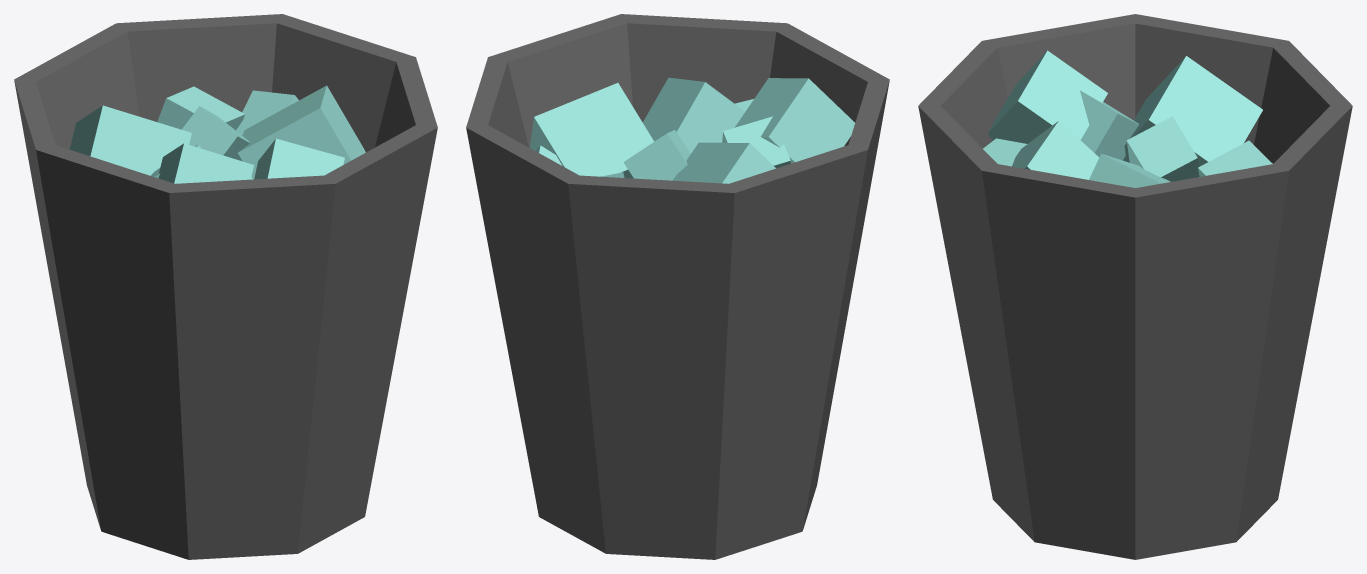
File: bucket.fbx
The picture shows the model from 3 angles, left to right: view 1: azimuth 30°, elevation 25°; view 2: azimuth 150°, elevation 25°; view 3: azimuth 270°, elevation 25°; orthographic projection.
Visible parts, largest first — view 1: bucket; view 2: bucket; view 3: bucket.
Part boxes in pixels (x1,y1,x2,y2): bucket: (14,14,437,559); bucket: (466,14,889,559); bucket: (918,14,1352,559).
Bounding box in the file's own units: 38.36 × 39.69 × 38.36.
